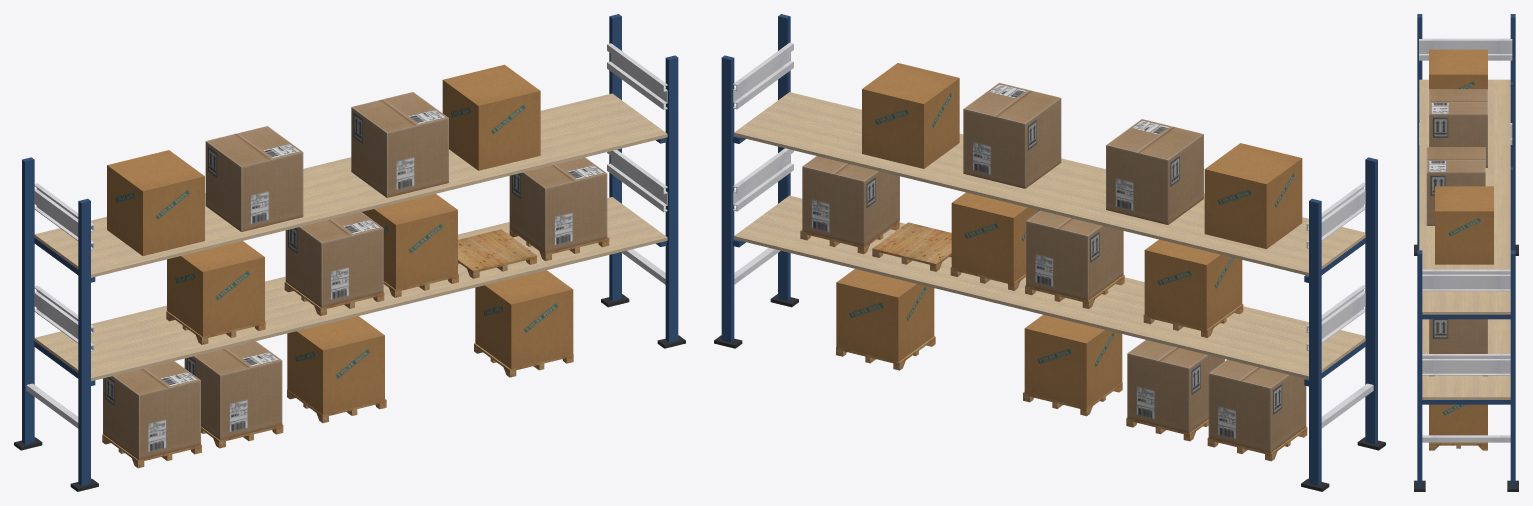
Rendered from storage.glb.
The picture shows the model from 3 angles, left to right: view 1: azimuth 30°, elevation 25°; view 2: azimuth 150°, elevation 25°; view 3: azimuth 270°, elevation 25°; orthographic projection. The views are drawn at different scales.
Parts seen in each view (by area): view 1: BigShelves04, Cardboard_box01, Cardboard_box05, BigShelvesWoodBox; view 2: BigShelves04, Cardboard_box01, Cardboard_box05, BigShelvesWoodBox; view 3: BigShelves04, Cardboard_box05, Cardboard_box01, BigShelvesWoodBox.
Boxes of the visible parts, x1,y1,x2,y2 form: BigShelves04: [14, 14, 685, 491]; Cardboard_box01: [103, 92, 607, 459]; Cardboard_box05: [107, 64, 573, 415]; BigShelvesWoodBox: [102, 228, 609, 468]; BigShelves04: [714, 14, 1385, 491]; Cardboard_box01: [802, 82, 1306, 453]; Cardboard_box05: [836, 63, 1302, 408]; BigShelvesWoodBox: [800, 221, 1307, 461]; BigShelves04: [1414, 14, 1518, 491]; Cardboard_box05: [1429, 49, 1493, 443]; Cardboard_box01: [1426, 89, 1487, 353]; BigShelvesWoodBox: [1429, 375, 1487, 450].
Bounding box in the file's own units: 10 × 4.49 × 1.81.
Materials: 7 (7 with a texture image).
